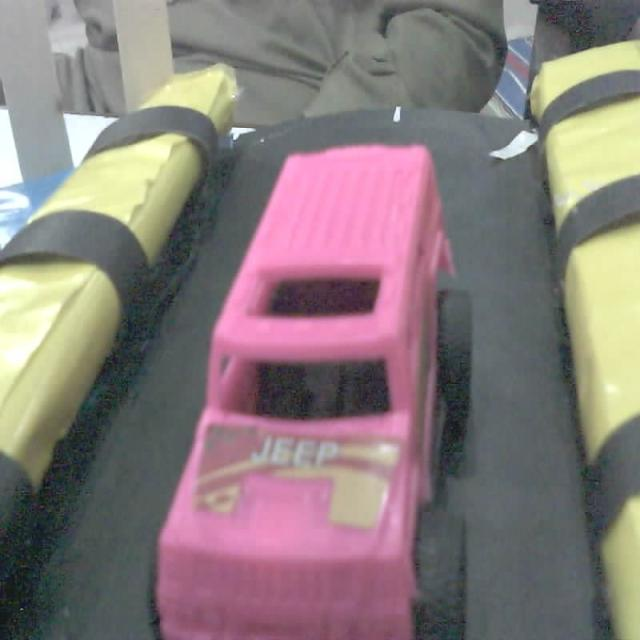OneCar: (154, 146, 469, 639)
